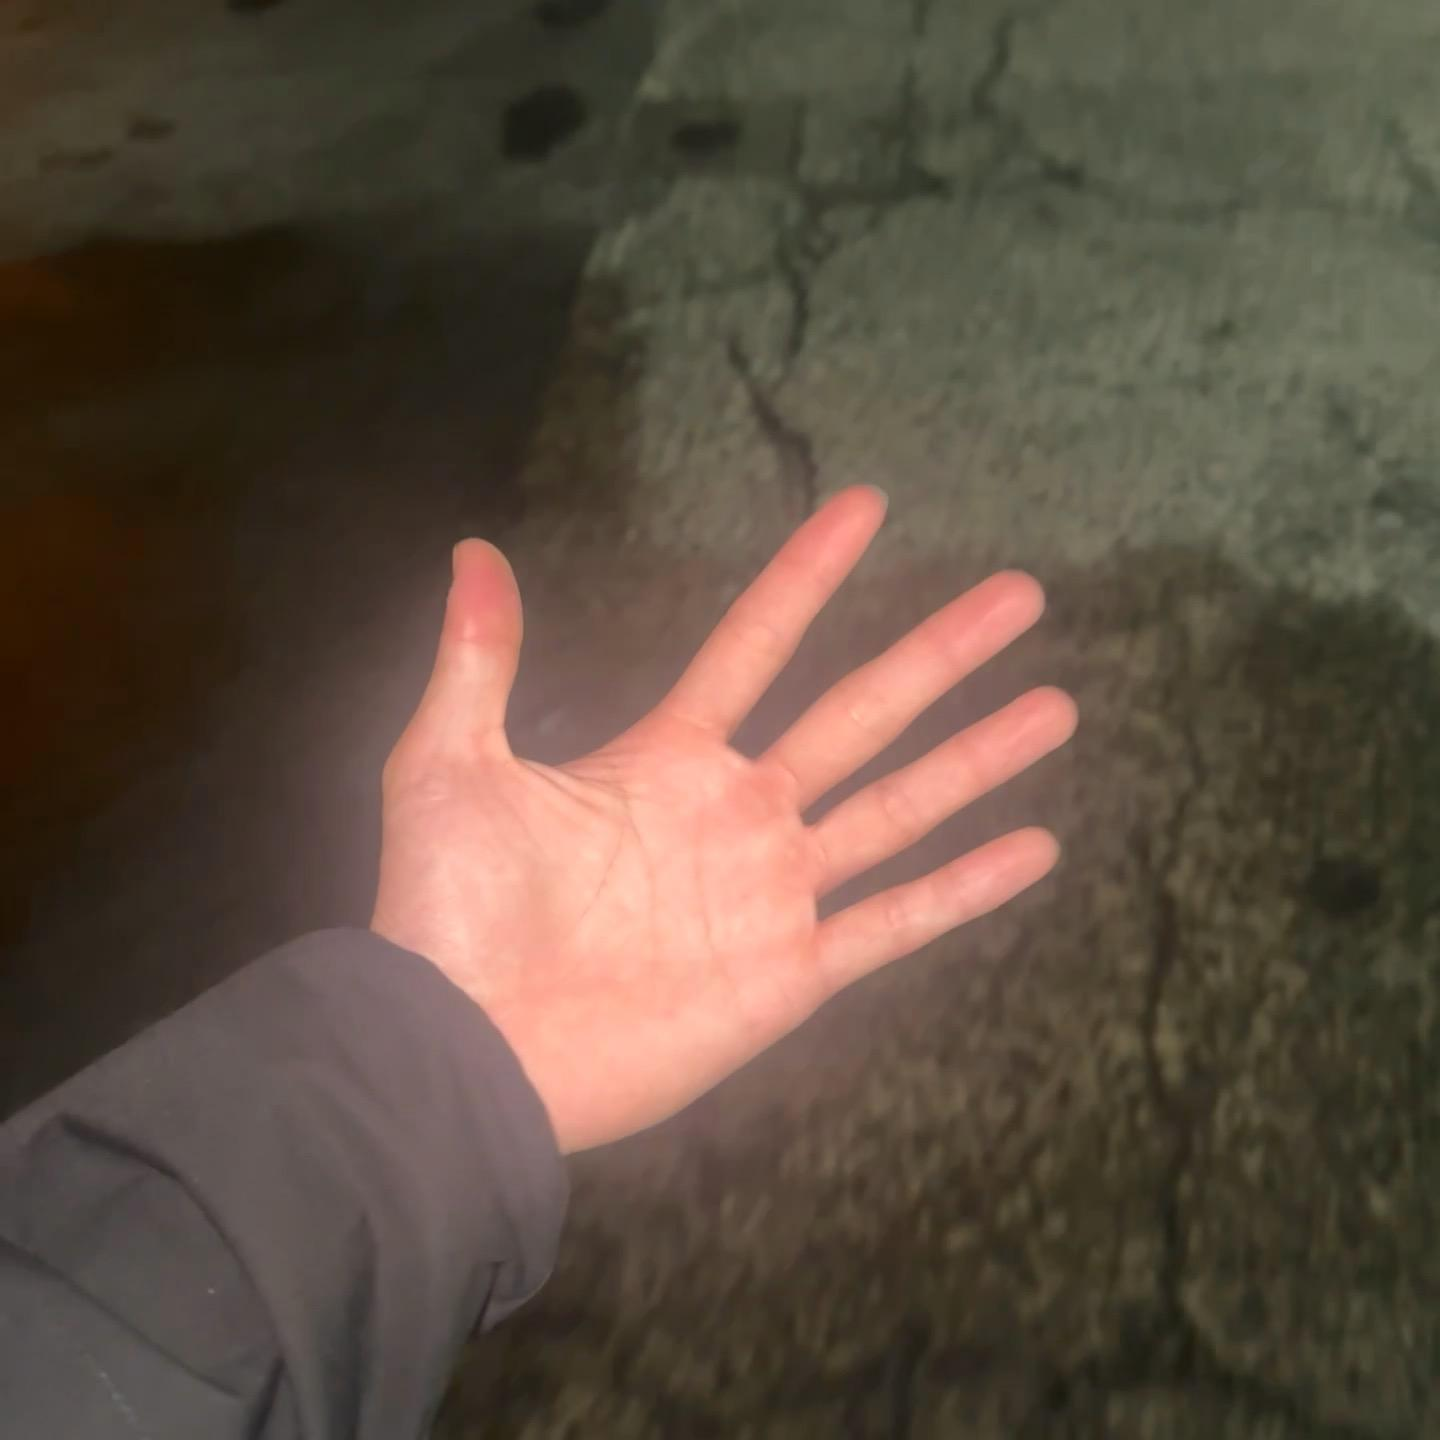without_gloves: (268, 310, 1073, 1168)
